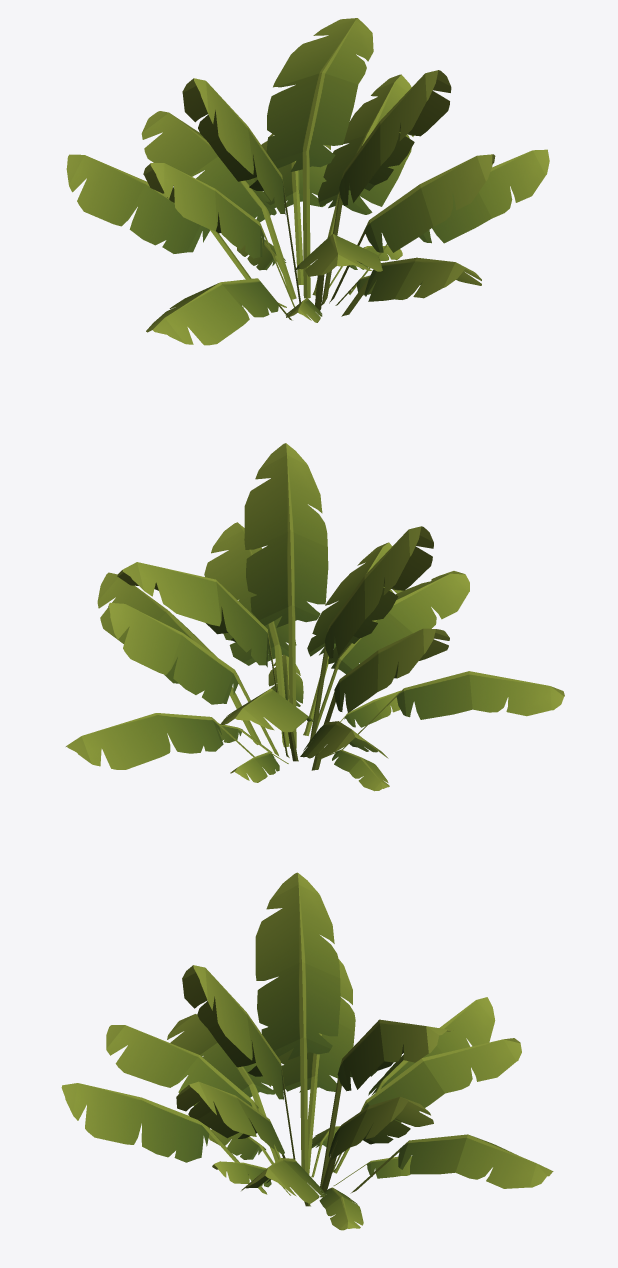
The model's file is Plant_03.fbx.
3 renders of one model, top to bottom at view 1: azimuth 30°, elevation 25°; view 2: azimuth 150°, elevation 25°; view 3: azimuth 270°, elevation 25°, orthographic. The views are drawn at different scales.
Parts seen in each view (by area): view 1: Plant_03_LOD0; view 2: Plant_03_LOD0; view 3: Plant_03_LOD0.
Boxes of the visible parts, x1=… form: Plant_03_LOD0: x1=66, y1=18, x2=549, y2=345; Plant_03_LOD0: x1=66, y1=443, x2=564, y2=791; Plant_03_LOD0: x1=61, y1=872, x2=553, y2=1230.
Size of what is drawn, in the model's own units: 0.948 by 0.4962 by 0.9412.
